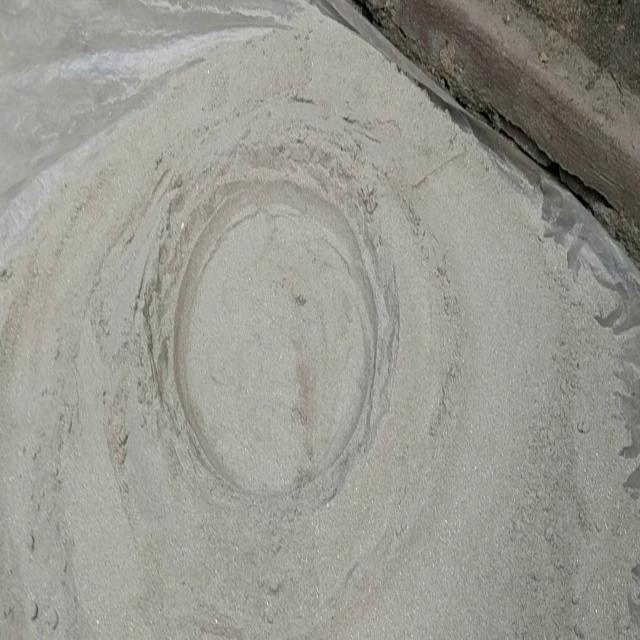C40: (142, 176, 398, 513)
